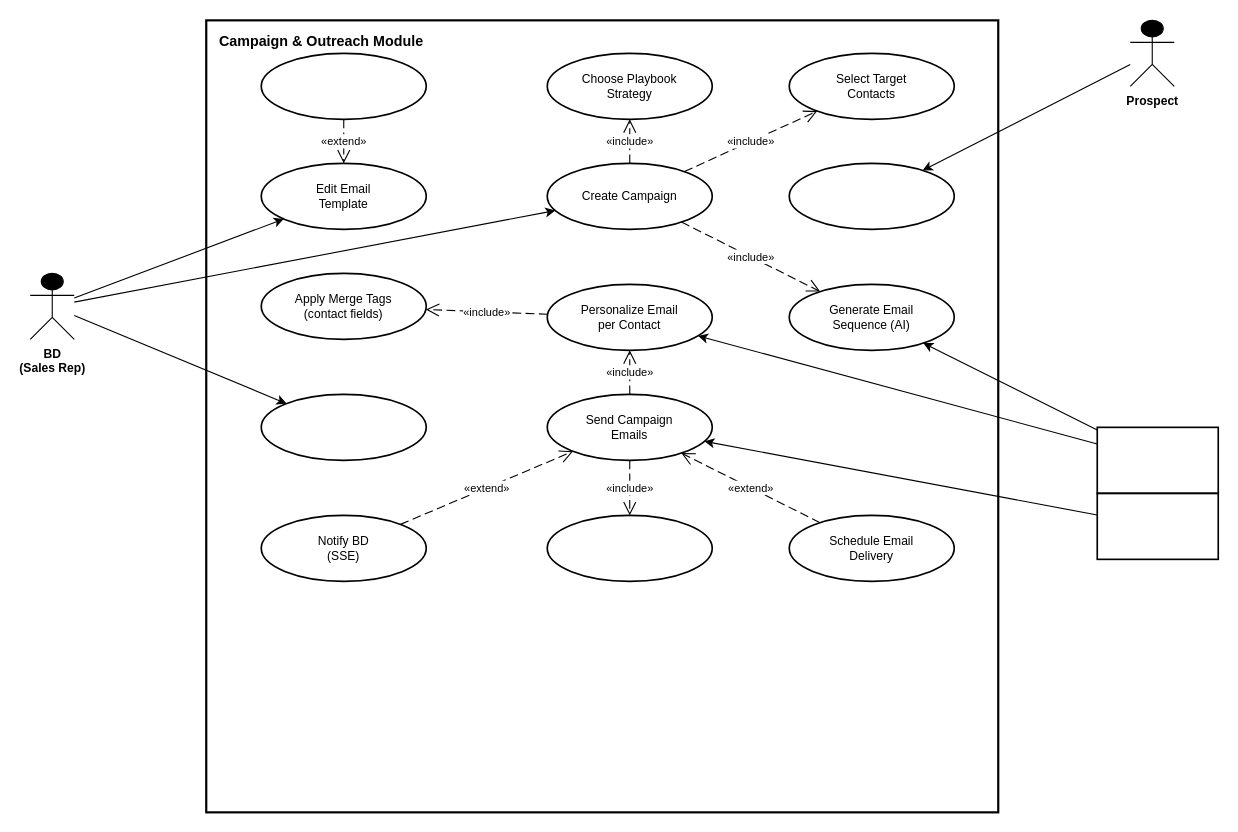
Some shapes in this 1238 by 832 pixel diagram are drawn without their labels. The shapes that lost their labels are listed below. From the top down, each one's centre as x and y in pixels, then its label:
(343,86): Enhance Draft via AI Chat (Coze)
(871,196): Receive Campaign Email
(343,427): Track Campaign Metrics
(1157,460): «system» LLM Service (OpenAI)
(1157,526): «system» Gmail API
(629,548): Update Contact Outreach State
